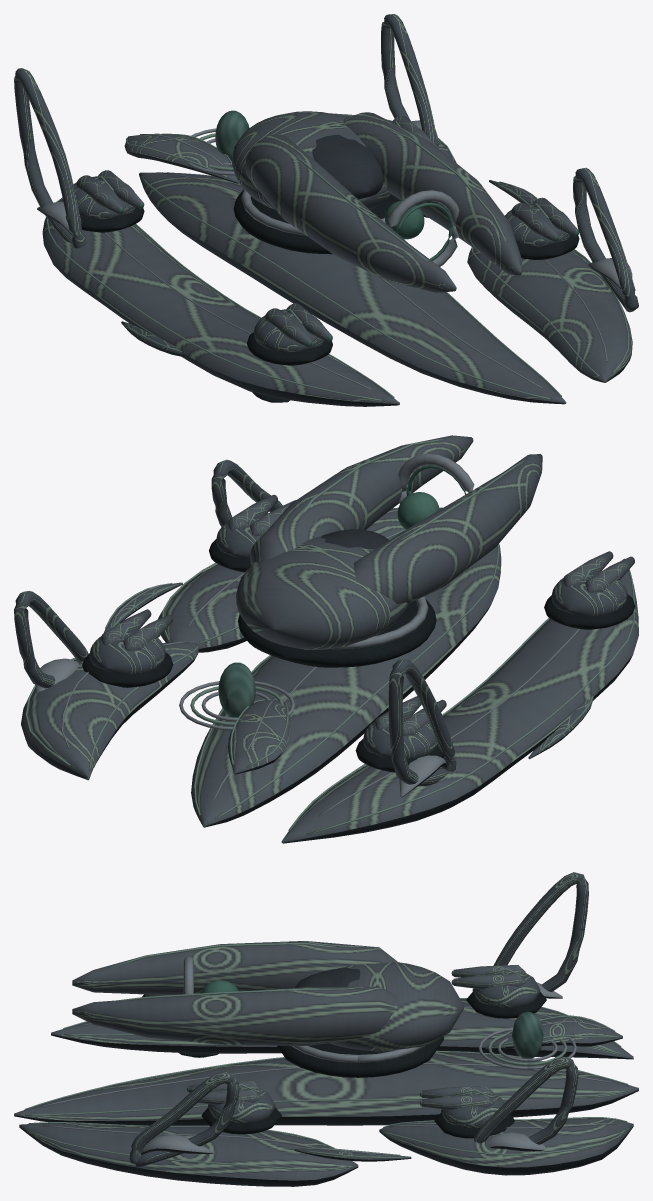
The model's file is GGA0401_source.obj.
The picture shows the model from 3 angles, top to bottom: view 1: azimuth 30°, elevation 25°; view 2: azimuth 150°, elevation 25°; view 3: azimuth 270°, elevation 25°; orthographic projection. The views are drawn at different scales.
Parts seen in each view (by area): view 1: PortHull, MainPitch, GGA0401, StarboardFore, MainYaw, StarboardAft, AftShard, AA1Pitch, AA3Pitch, AA2Pitch, AA1Yaw, ShieldCore (+2 smaller); view 2: PortHull, MainPitch, GGA0401, MainYaw, StarboardAft, StarboardFore, AftShard, AA1Yaw, AA4Yaw, ShieldCore, AA3Yaw, AA4Pitch (+4 smaller); view 3: MainPitch, GGA0401, StarboardFore, StarboardAft, PortHull, MainYaw, AftShard, AA3Pitch, AA4Pitch, AA3Yaw, ShieldCore, AA2Yaw (+2 smaller).
Part boxes in pixels (<box>): PortHull: <box>14,68,399,406</box>; MainPitch: <box>245,112,521,292</box>; GGA0401: <box>139,128,566,404</box>; StarboardFore: <box>467,167,638,382</box>; MainYaw: <box>232,111,400,254</box>; StarboardAft: <box>330,14,537,217</box>; AftShard: <box>124,133,238,183</box>; AA1Pitch: <box>264,303,332,347</box>; AA3Pitch: <box>76,170,144,214</box>; AA2Pitch: <box>511,197,579,241</box>; AA1Yaw: <box>254,309,324,352</box>; ShieldCore: <box>215,110,249,161</box>; PortHull: <box>281,558,638,843</box>; MainPitch: <box>250,435,542,603</box>; GGA0401: <box>179,544,501,827</box>; MainYaw: <box>236,536,436,667</box>; StarboardAft: <box>14,582,198,780</box>; StarboardFore: <box>157,459,442,652</box>; AftShard: <box>228,699,290,774</box>; AA1Yaw: <box>551,571,627,616</box>; AA4Yaw: <box>89,629,165,674</box>; ShieldCore: <box>218,662,255,717</box>; AA3Yaw: <box>363,714,437,758</box>; AA4Pitch: <box>100,609,172,650</box>; MainPitch: <box>72,941,398,1045</box>; GGA0401: <box>14,1027,638,1125</box>; StarboardFore: <box>19,1071,358,1186</box>; StarboardAft: <box>294,1056,633,1175</box>; PortHull: <box>51,872,633,1059</box>; MainYaw: <box>277,962,464,1077</box>; AftShard: <box>485,1015,622,1049</box>; AA3Pitch: <box>451,965,525,989</box>; AA4Pitch: <box>419,1085,493,1109</box>; AA3Yaw: <box>472,973,540,1007</box>; ShieldCore: <box>512,1011,543,1058</box>; AA2Yaw: <box>208,1088,275,1122</box>.
Bounding box in the file's own units: 39.62 × 16.9 × 59.
1 material, 1 textured.
